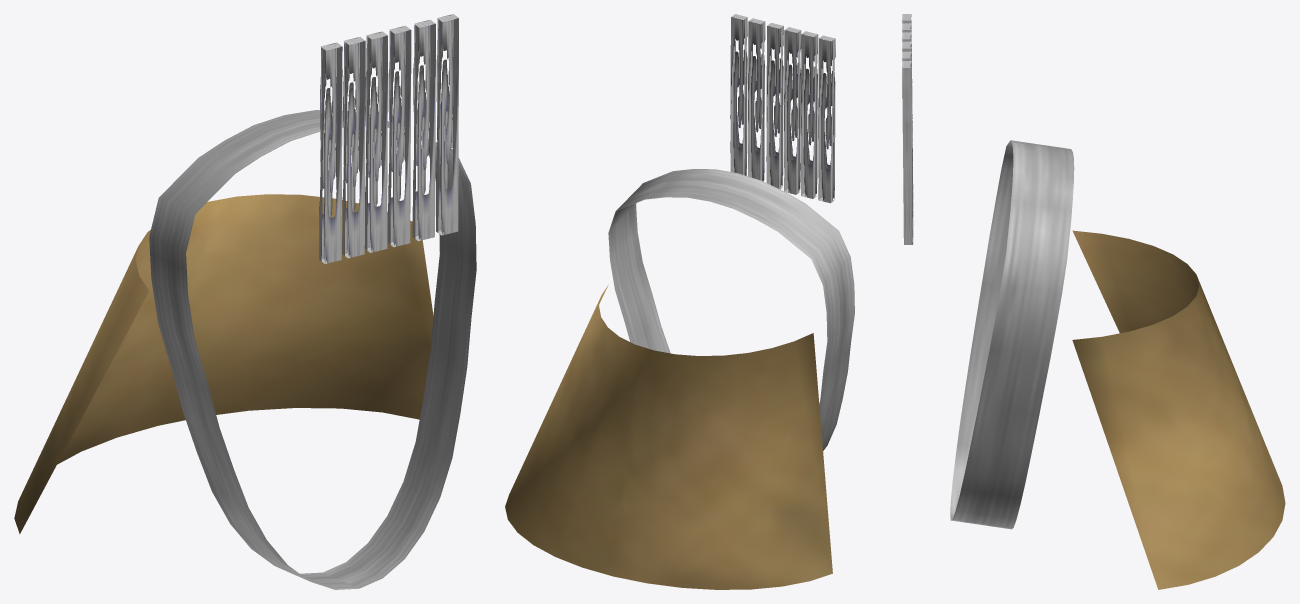
The model's file is helmet_moch_fisher_3.dae.
3 renders of one model, left to right at view 1: azimuth 30°, elevation 25°; view 2: azimuth 150°, elevation 25°; view 3: azimuth 270°, elevation 25°, orthographic. The views are drawn at different scales.
Parts seen in each view (by area): view 1: helmet_moch_fisher_3; view 2: helmet_moch_fisher_3; view 3: helmet_moch_fisher_3.
Boxes of the visible parts, bbox=[...] form: helmet_moch_fisher_3: bbox=[14, 14, 476, 589]; helmet_moch_fisher_3: bbox=[505, 14, 854, 589]; helmet_moch_fisher_3: bbox=[902, 14, 1285, 589].
Bounding box in the file's own units: 0.7223 × 0.7071 × 0.9394.
